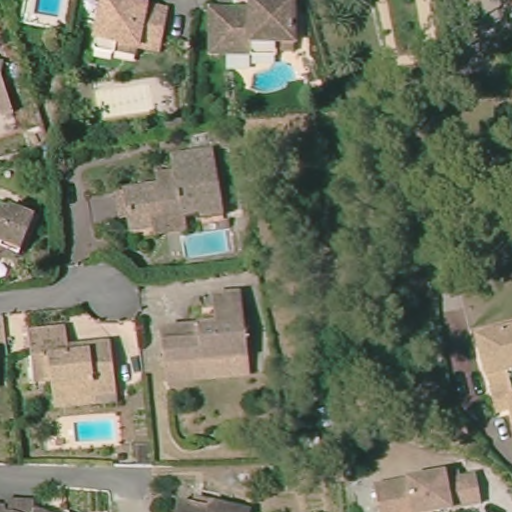pool: (67, 407, 125, 451), (244, 59, 308, 94), (177, 226, 237, 261), (27, 1, 75, 27)
